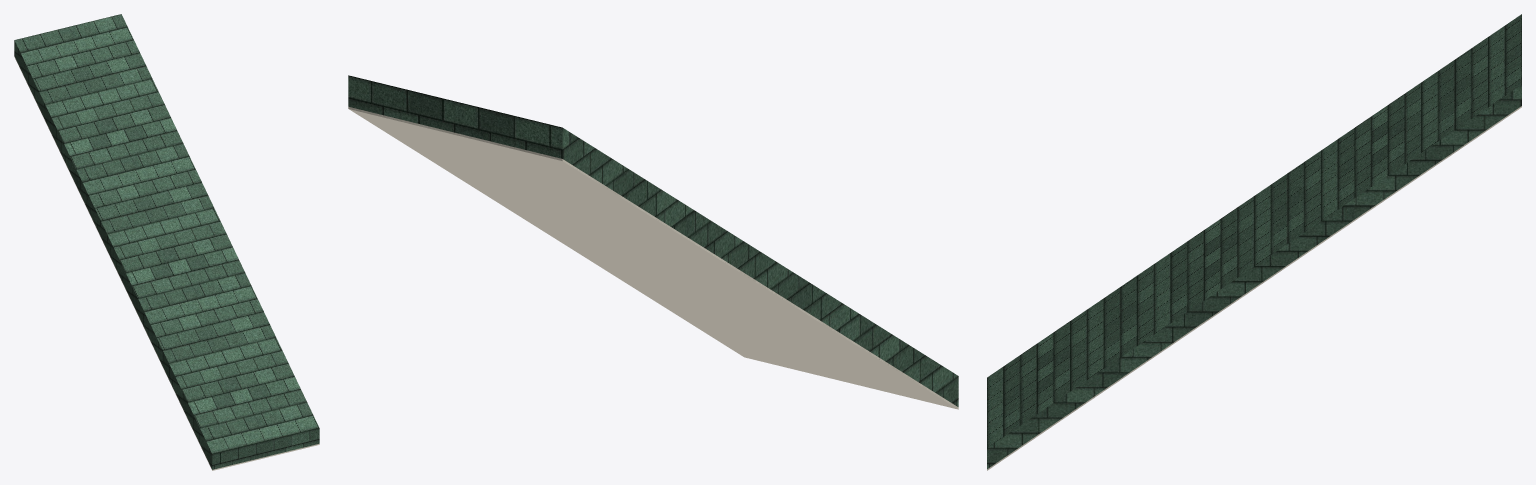
File: roof_slope.glb
The picture shows the model from 3 angles, left to right: view 1: azimuth 30°, elevation 25°; view 2: azimuth 150°, elevation 25°; view 3: azimuth 270°, elevation 25°; orthographic projection. The views are drawn at different scales.
Parts seen in each view (by area): view 1: roof_slope_shingle, roof_slope_plaster; view 2: roof_slope_plaster, roof_slope_shingle; view 3: roof_slope_shingle, roof_slope_plaster.
Boxes of the visible parts, x1,y1,x2,y2 form: roof_slope_shingle: (14,14,319,469); roof_slope_plaster: (14,56,319,470); roof_slope_plaster: (348,106,958,409); roof_slope_shingle: (348,75,958,406); roof_slope_shingle: (987,14,1521,468); roof_slope_plaster: (987,106,1521,470).
Bounding box in the file's own units: 2 × 5.1 × 6.4.
2 materials, 2 textured.
